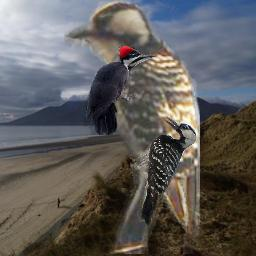Woodpecker: (64, 0, 200, 254), (130, 117, 198, 227), (82, 45, 158, 135)
